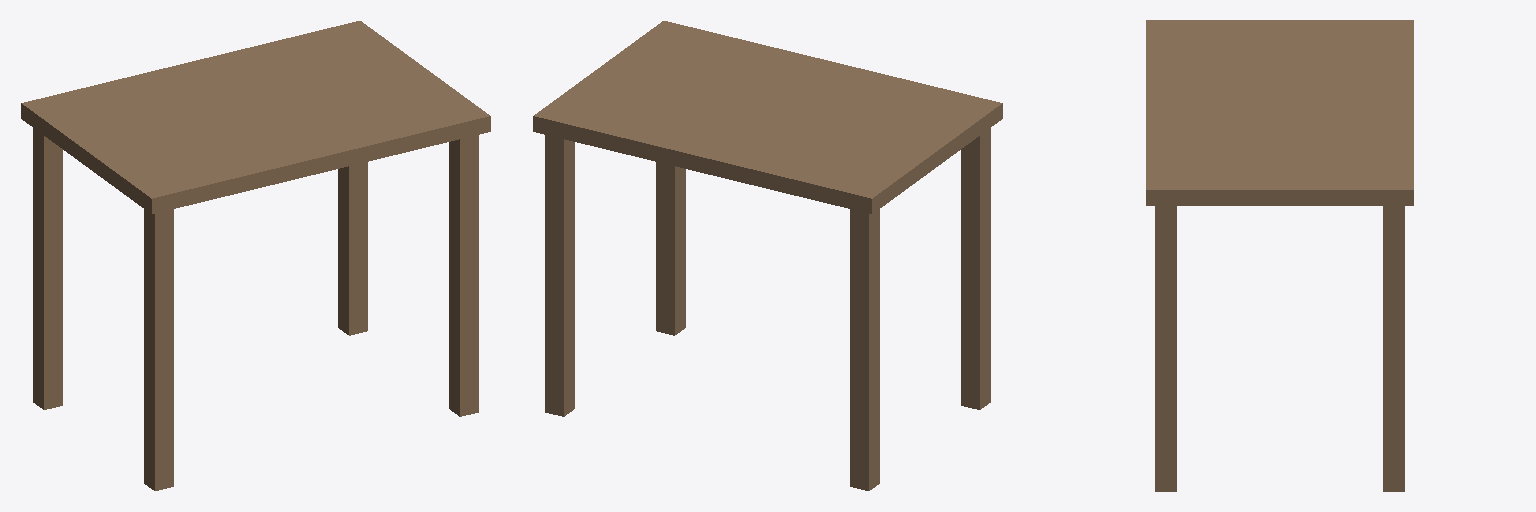
robot.urdf — support_table.urdf:
<?xml version="1.0" ?>
<robot name="support_table.urdf">
  <!-- Static support surface (table) the clip places the box on. STATIC: spawned with a fixed
       base at the clip pose (support_pos_w / support_quat_w from the training npz). Centered mesh
       (femto14_support_box36.obj, ~0.9x0.6x0.756, origin at box centre) so the npz pose places it
       exactly like the free box. Collision mesh = the plateau+legs for the box-on-table deposit
       contact / SDF. -->
  <link name="baseLink">
    <inertial>
      <mass value="50.0"/>
      <origin xyz="0 0 0"/>
      <inertia ixx="1.0" ixy="0" ixz="0" iyy="1.0" iyz="0" izz="1.0"/>
    </inertial>
    <contact>
      <lateral_friction value="0.9"/>
      <stiffness value="30000"/>
      <damping value="1000"/>
    </contact>
    <visual>
      <origin rpy="0 0 0" xyz="0 0 0"/>
      <geometry>
        <mesh filename="femto14_support_box36.obj" scale="1.0 1.0 1.0"/>
      </geometry>
      <material name="mat">
        <color rgba="0.6 0.5 0.4 1"/>
      </material>
    </visual>
    <collision>
      <origin rpy="0 0 0" xyz="0 0 0"/>
      <geometry>
        <mesh filename="femto14_support_box36.obj" scale="1.0 1.0 1.0"/>
      </geometry>
    </collision>
  </link>
</robot>

--- Facts derived from the render (not from the file) ---
The picture shows the robot from 3 angles, left to right: view 1: azimuth 30°, elevation 25°; view 2: azimuth 150°, elevation 25°; view 3: azimuth 270°, elevation 25°; orthographic projection.
Robot: support_table.urdf — 1 links, 0 joints (none); root link baseLink; default pose: every joint at zero.
Visible links, largest first — view 1: baseLink; view 2: baseLink; view 3: baseLink.
Link boxes in pixels (x1,y1,x2,y2): baseLink: [21, 21, 490, 490]; baseLink: [533, 21, 1002, 490]; baseLink: [1146, 20, 1413, 491].
Size in the robot's own frame: 0.9 by 0.6 by 0.7556 metres.
Meshes: 1 distinct files referenced, 1 mesh visuals loaded (1 OBJ).
